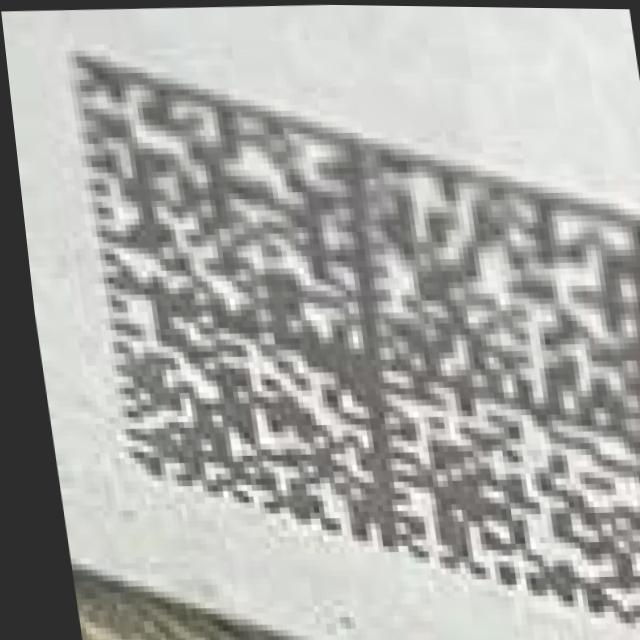QR_CODE: (65, 32, 640, 640)
